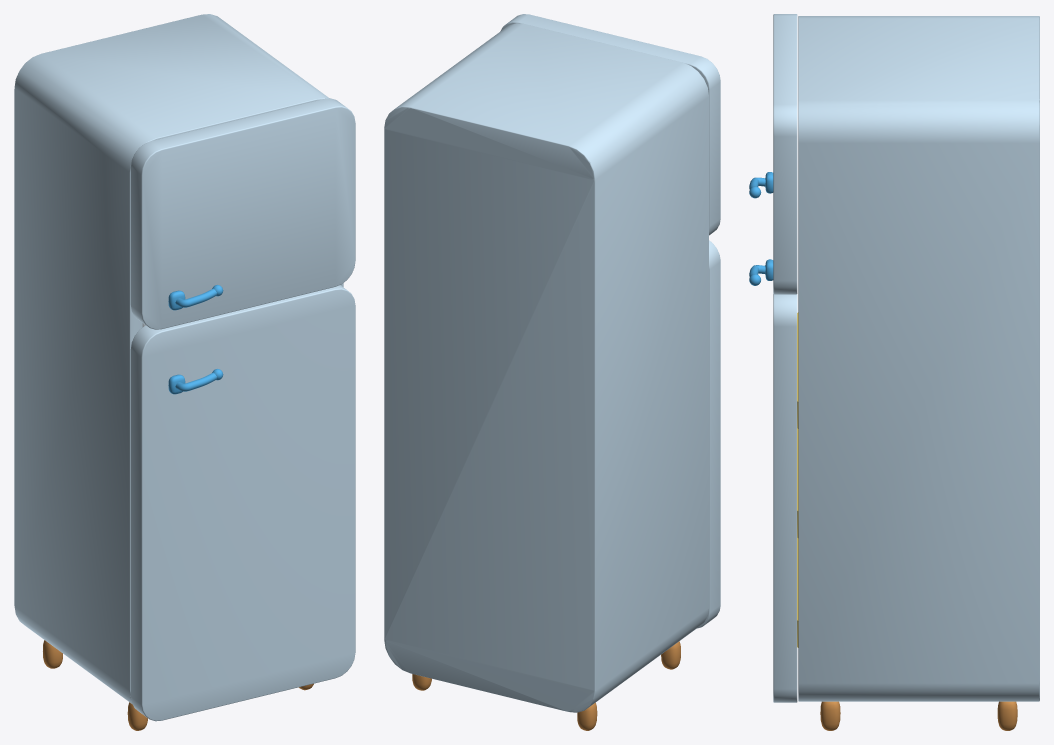
File: geladeira_retro_pes_azul.glb
3 views of the same model, side by side, from view 1: azimuth 30°, elevation 25°; view 2: azimuth 150°, elevation 25°; view 3: azimuth 270°, elevation 25° (orthographic). The views are drawn at different scales.
Visible parts, largest first — view 1: geladeira_retro_pes_azul, porta_geladeira, porta_congelador; view 2: geladeira_retro_pes_azul, porta_geladeira, porta_congelador; view 3: geladeira_retro_pes_azul, porta_geladeira, porta_congelador.
Part boxes in pixels (bbox=[...]): geladeira_retro_pes_azul: bbox=[14, 14, 343, 730]; porta_geladeira: bbox=[130, 285, 355, 721]; porta_congelador: bbox=[130, 98, 355, 329]; geladeira_retro_pes_azul: bbox=[384, 23, 708, 730]; porta_geladeira: bbox=[697, 240, 720, 628]; porta_congelador: bbox=[500, 14, 720, 235]; geladeira_retro_pes_azul: bbox=[798, 16, 1039, 730]; porta_geladeira: bbox=[749, 259, 798, 702]; porta_congelador: bbox=[749, 14, 797, 294].
Bounding box in the file's own units: 0.64 × 1.72 × 0.722.
2 materials, 1 textured.
